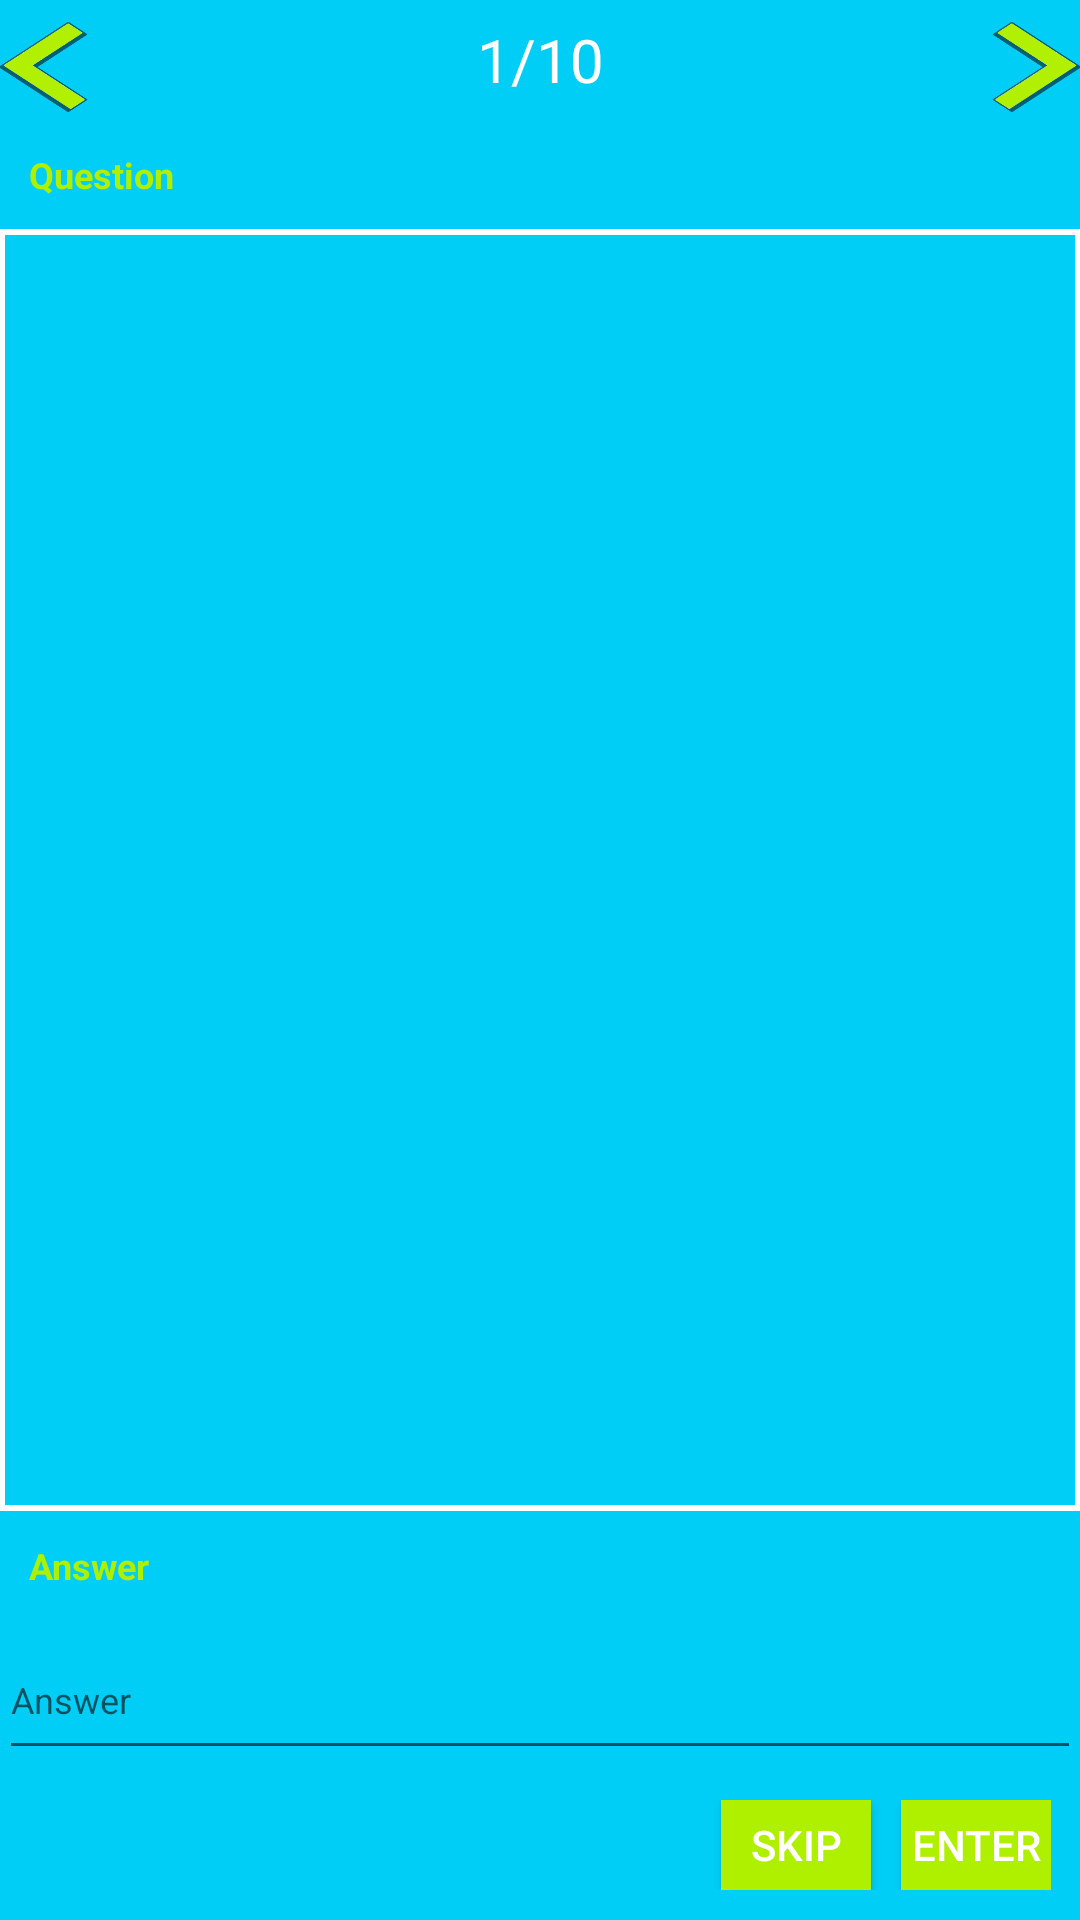

Named icons in this screenshot (1080*1920) and their bounding boxes, bbox=(x1, y1, x2, y2):
nextp: bbox=(993, 22, 1080, 112)
prevp: bbox=(0, 22, 87, 112)
